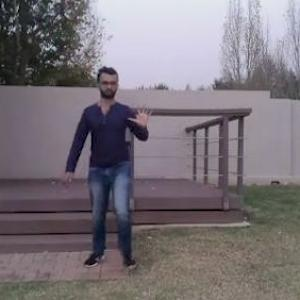follow_hand: (128, 99, 158, 131)
